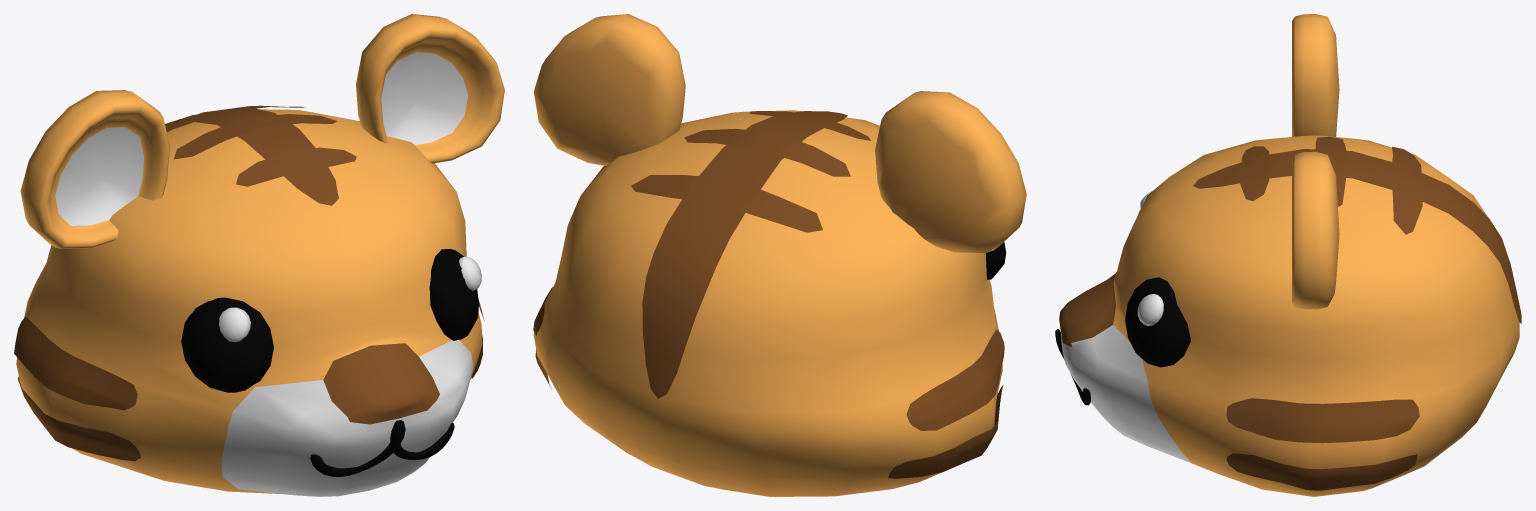
The model's file is tigerhead.fbx.
3 views of the same model, side by side, from view 1: azimuth 30°, elevation 25°; view 2: azimuth 150°, elevation 25°; view 3: azimuth 270°, elevation 25° (orthographic). The views are drawn at different scales.
Parts seen in each view (by area): view 1: tiger_head; view 2: tiger_head; view 3: tiger_head.
Boxes of the visible parts, left/top/right/bottom form: tiger_head: left=14, top=14, right=504, bottom=496; tiger_head: left=533, top=14, right=1026, bottom=496; tiger_head: left=1055, top=14, right=1521, bottom=496.
Bounding box in the file's own units: 68.59 × 55.44 × 63.98.
